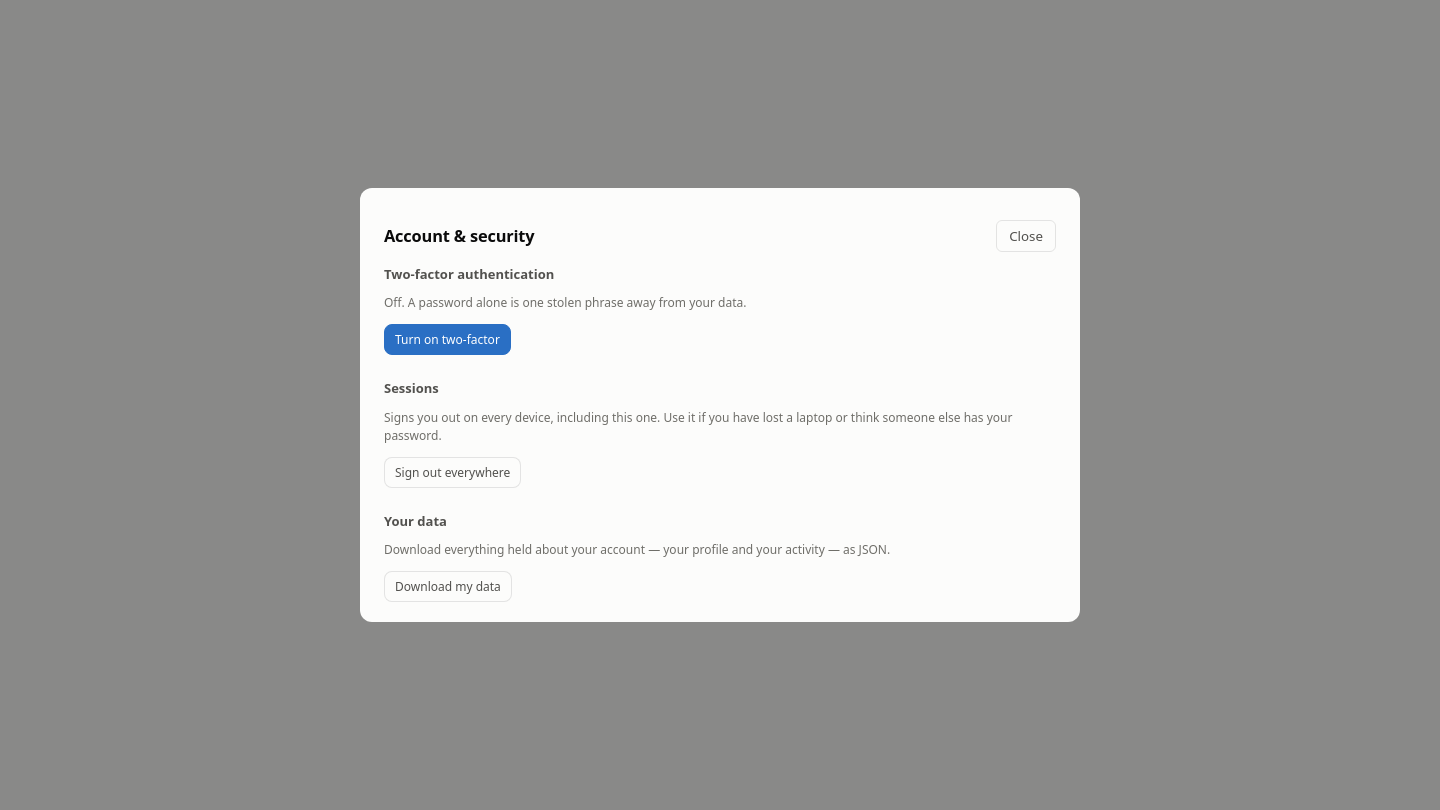
Test: SecurityDialog — two-factor enrolment › surfaces a rejected code instead of failing silently
Click the button "Turn on two-factor" at (447, 340), box [384, 324, 511, 355]
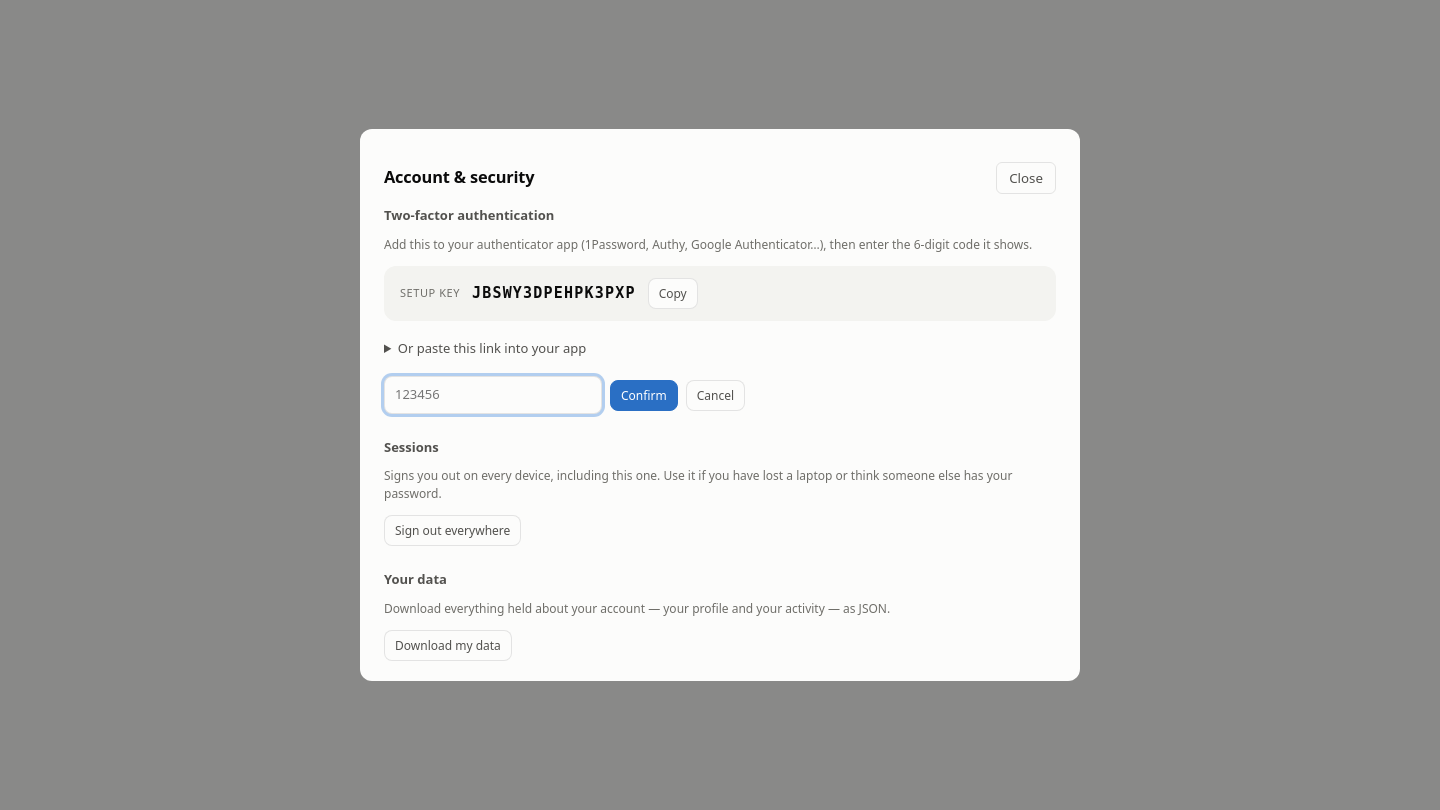
Type "000000" into the field named "6-digit code" at (493, 395), box [384, 376, 602, 414]
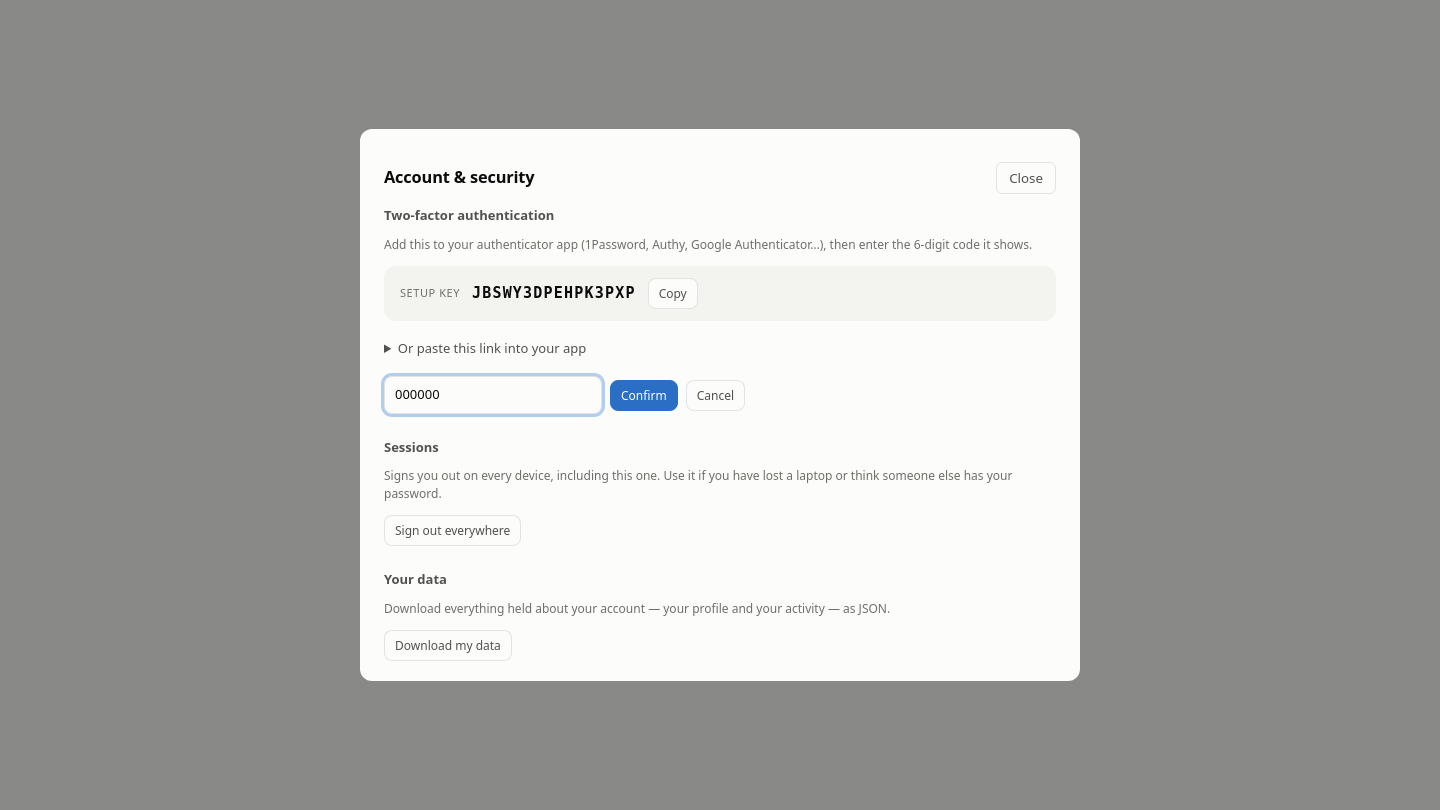
Click the button "Confirm" at (644, 395), box [610, 380, 678, 411]
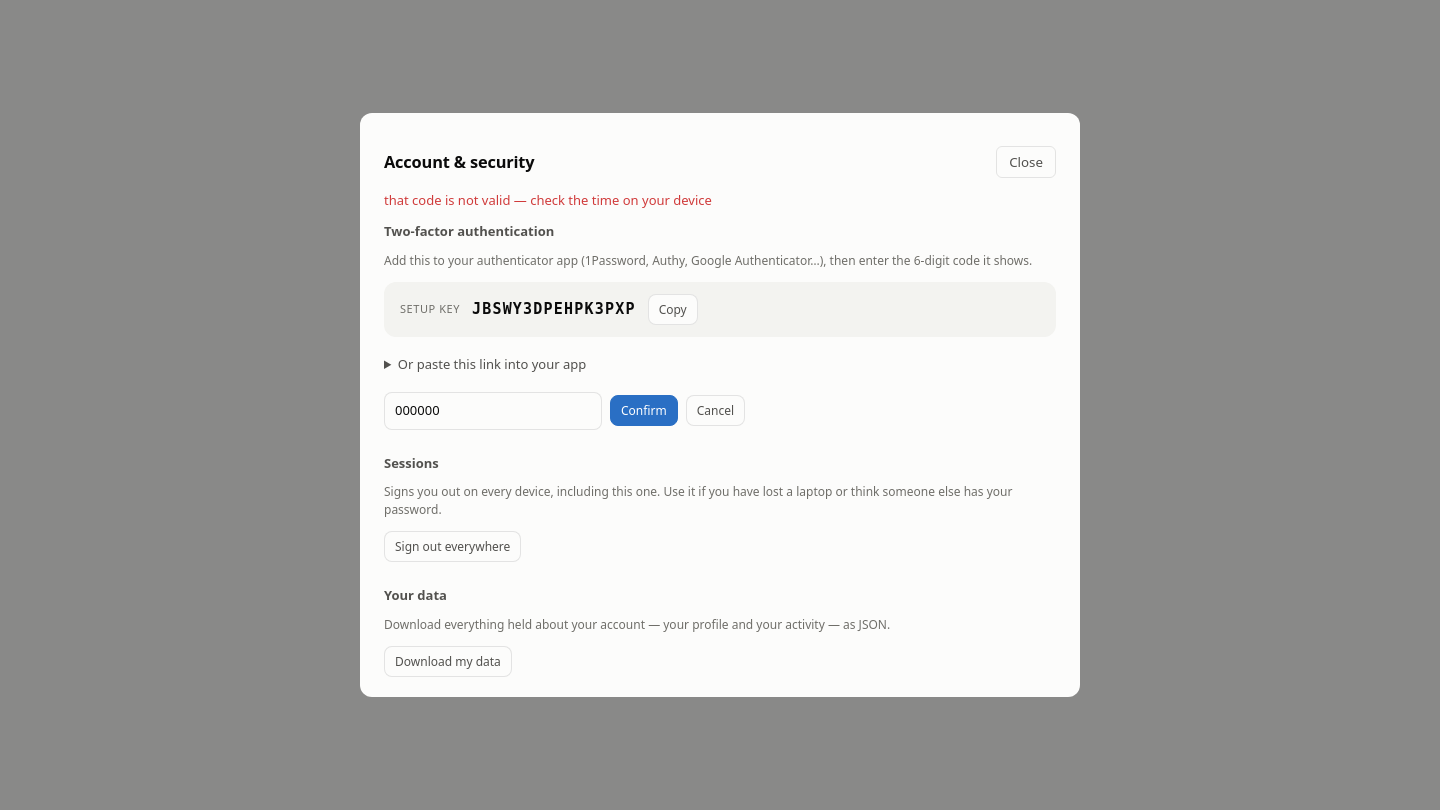
Expected: the text "that code is not valid — check the time on your device" is shown, [384, 191, 712, 209]
